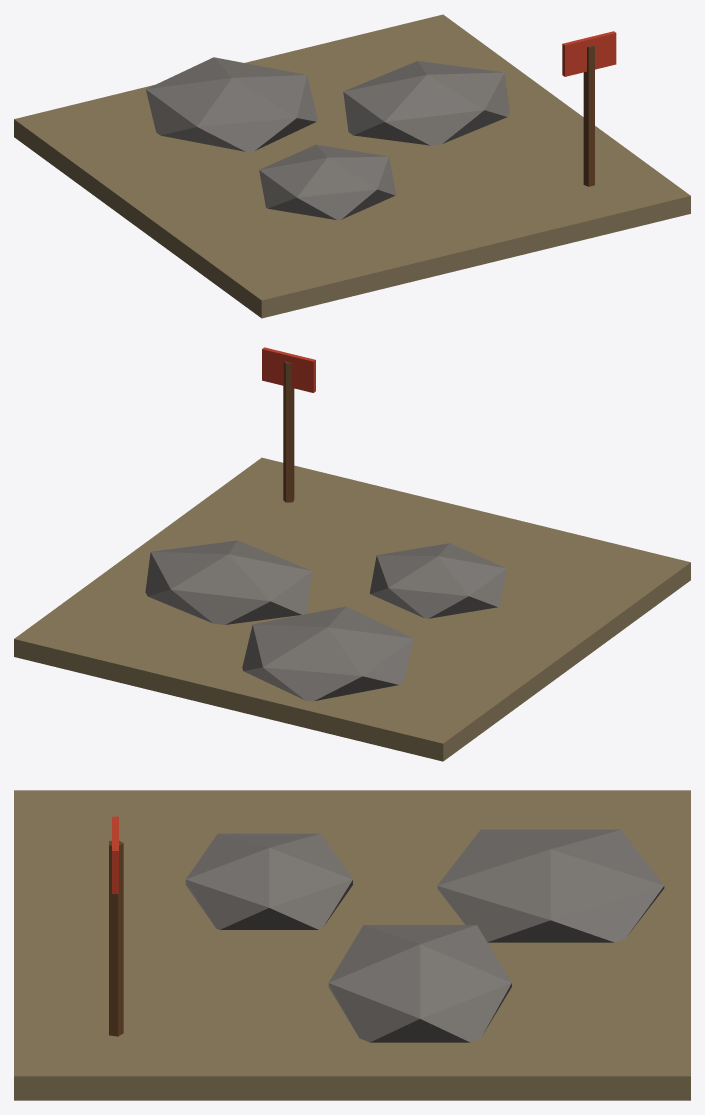
The model's file is Deposit_Silver_Depleted.fbx.
The picture shows the model from 3 angles, top to bottom: view 1: azimuth 30°, elevation 25°; view 2: azimuth 150°, elevation 25°; view 3: azimuth 270°, elevation 25°; orthographic projection. The views are drawn at different scales.
Parts seen in each view (by area): view 1: Deposit_Silver_Depleted_Body; view 2: Deposit_Silver_Depleted_Body; view 3: Deposit_Silver_Depleted_Body.
Boxes of the visible parts, x1=… form: Deposit_Silver_Depleted_Body: x1=14, y1=14, x2=690, y2=318; Deposit_Silver_Depleted_Body: x1=14, y1=347, x2=690, y2=761; Deposit_Silver_Depleted_Body: x1=14, y1=790, x2=690, y2=1100.
Bounding box in the file's own units: 1 × 0.3688 × 1.
